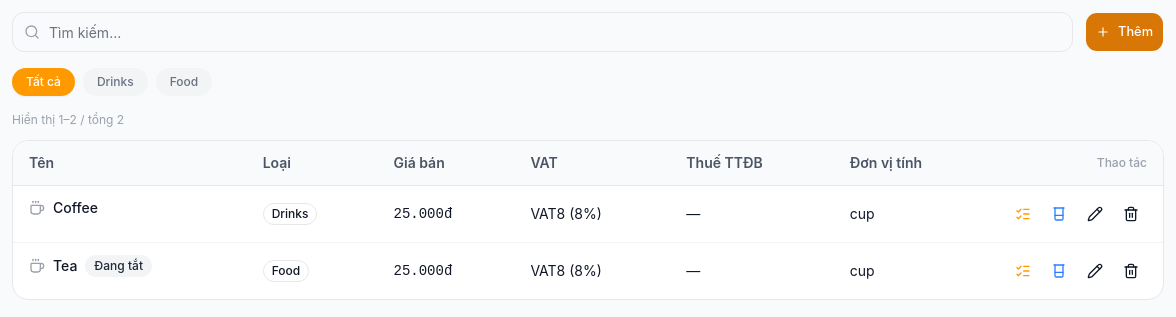
ProductsManager › renders products and filters by search and category
Expected: the text "Coffee" is shown, [13,186,247,230]
Expected: the text "Tea" is shown, [53,257,77,274]
Type "cof" into the field with placeholder "Tìm kiếm..." at (543,32), box [12,12,1073,52]
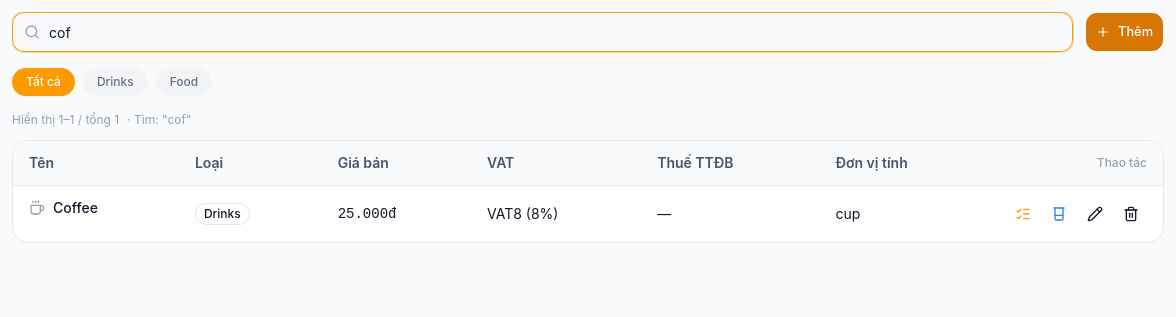
Expected: the text "· Tìm: \"cof\"" is shown, [127,112,192,127]
Expected: the text "Tea" is gone
Clear the field with placeholder "Tìm kiếm..." at (543,32), box [12,12,1073,52]
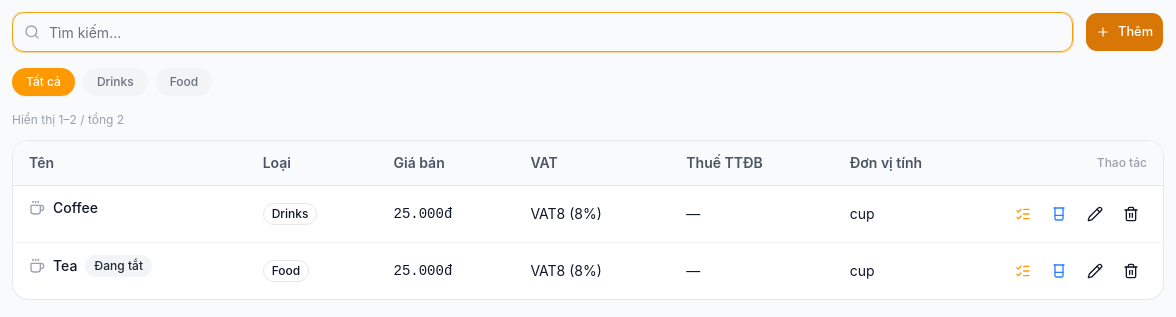
Click the button "Food" at (184,82), box [156,68,212,96]
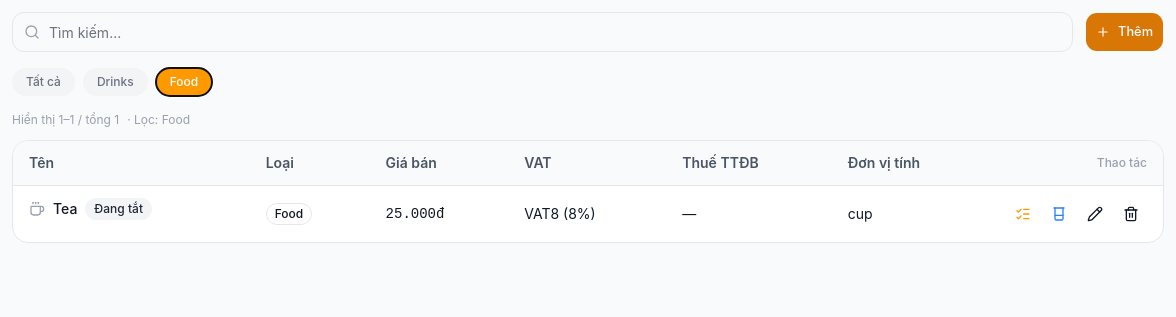
Expected: the text "Tea" is shown, [53,200,77,217]
Expected: the text "· Lọc: Food" is shown, [127,112,190,127]
Expected: the text "Coffee" is gone
